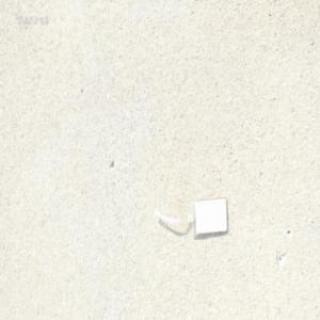LuggageTagtrack_idkeyframe: (152, 194, 228, 237)
